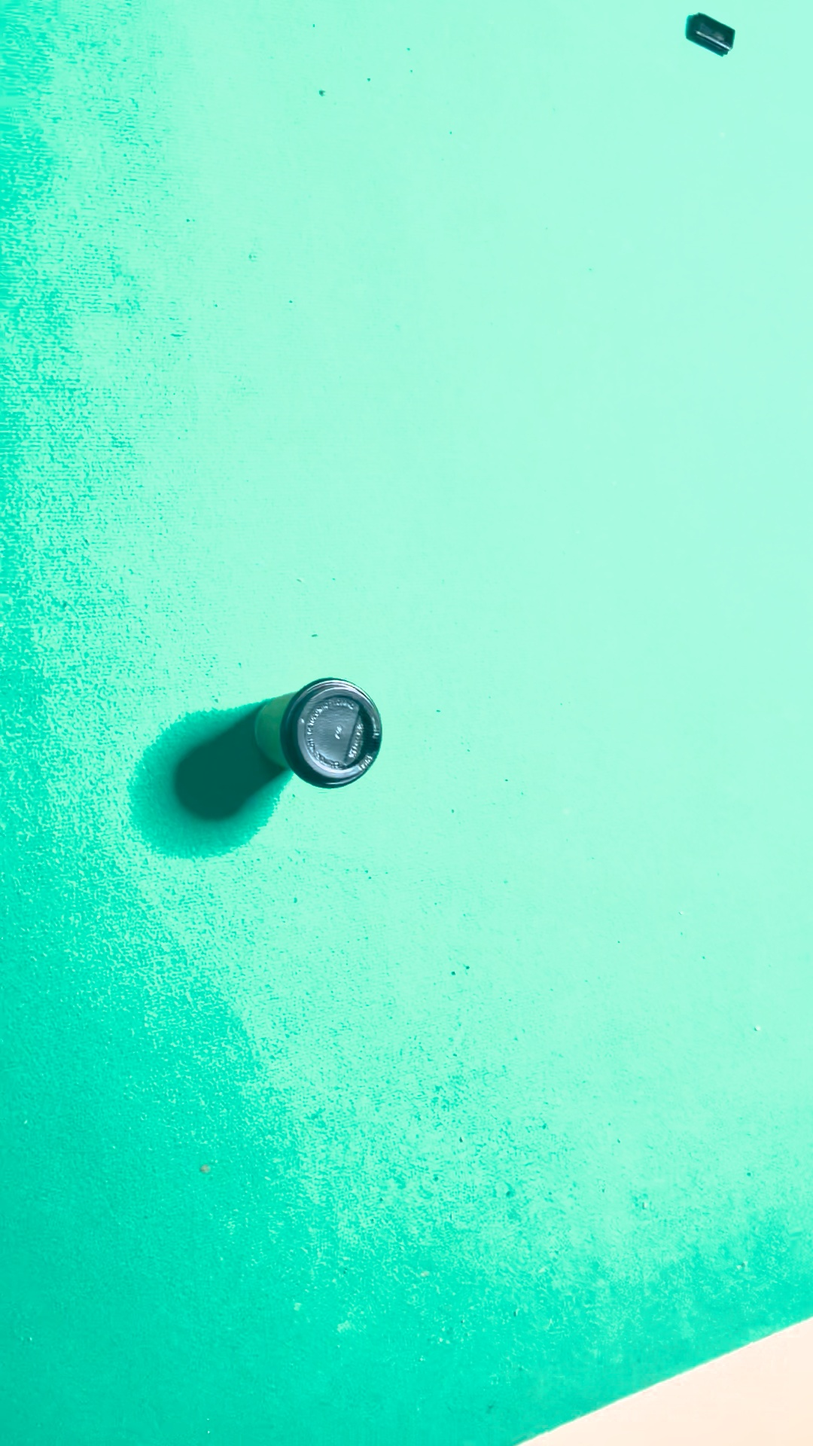cup: (426, 399, 512, 822)
